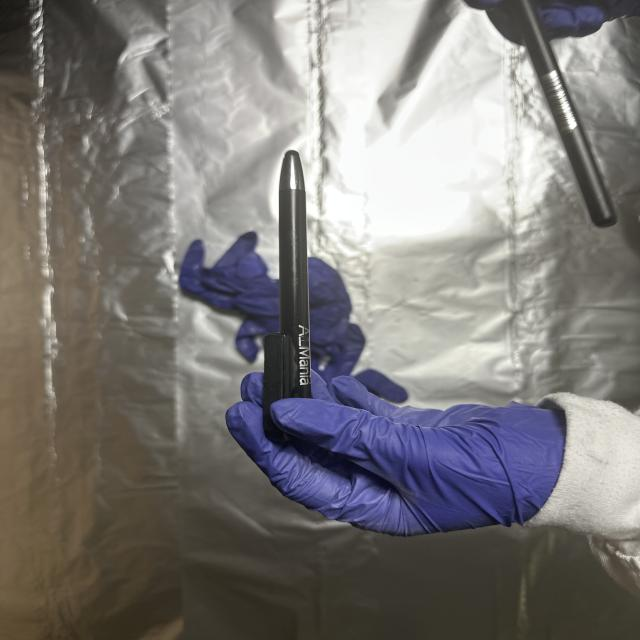gloves_contaminated: (226, 373, 566, 535)
